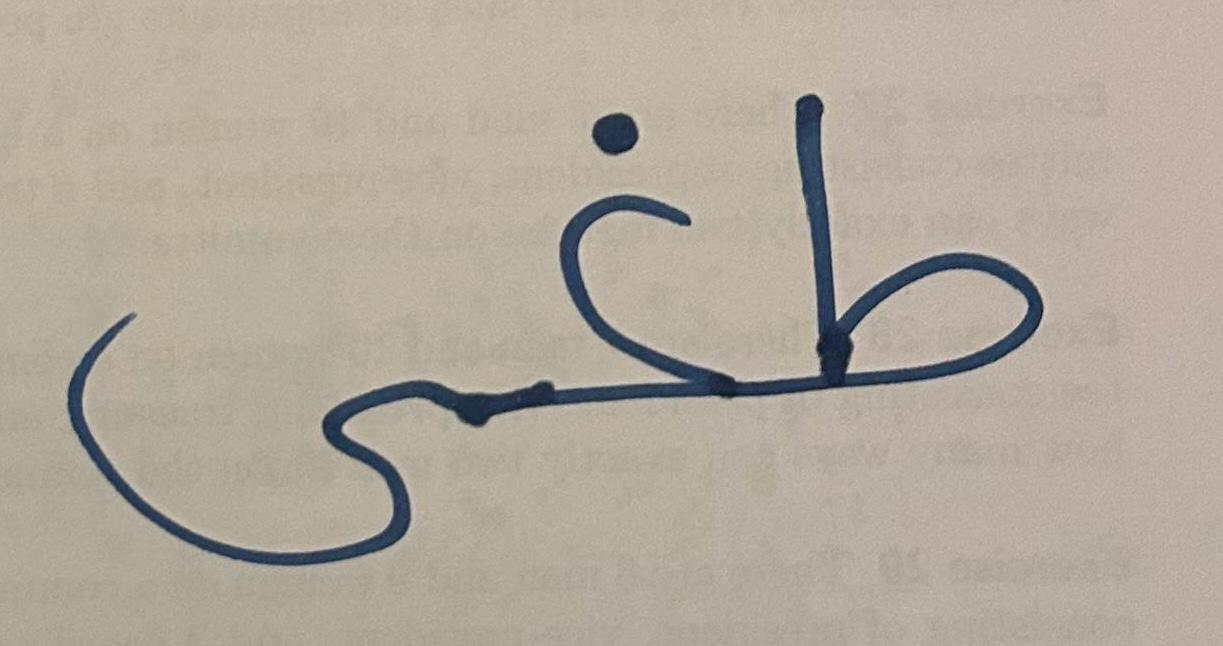ghain: (481, 76, 751, 478)
teh: (756, 66, 1107, 467)
zah: (40, 222, 478, 611)
